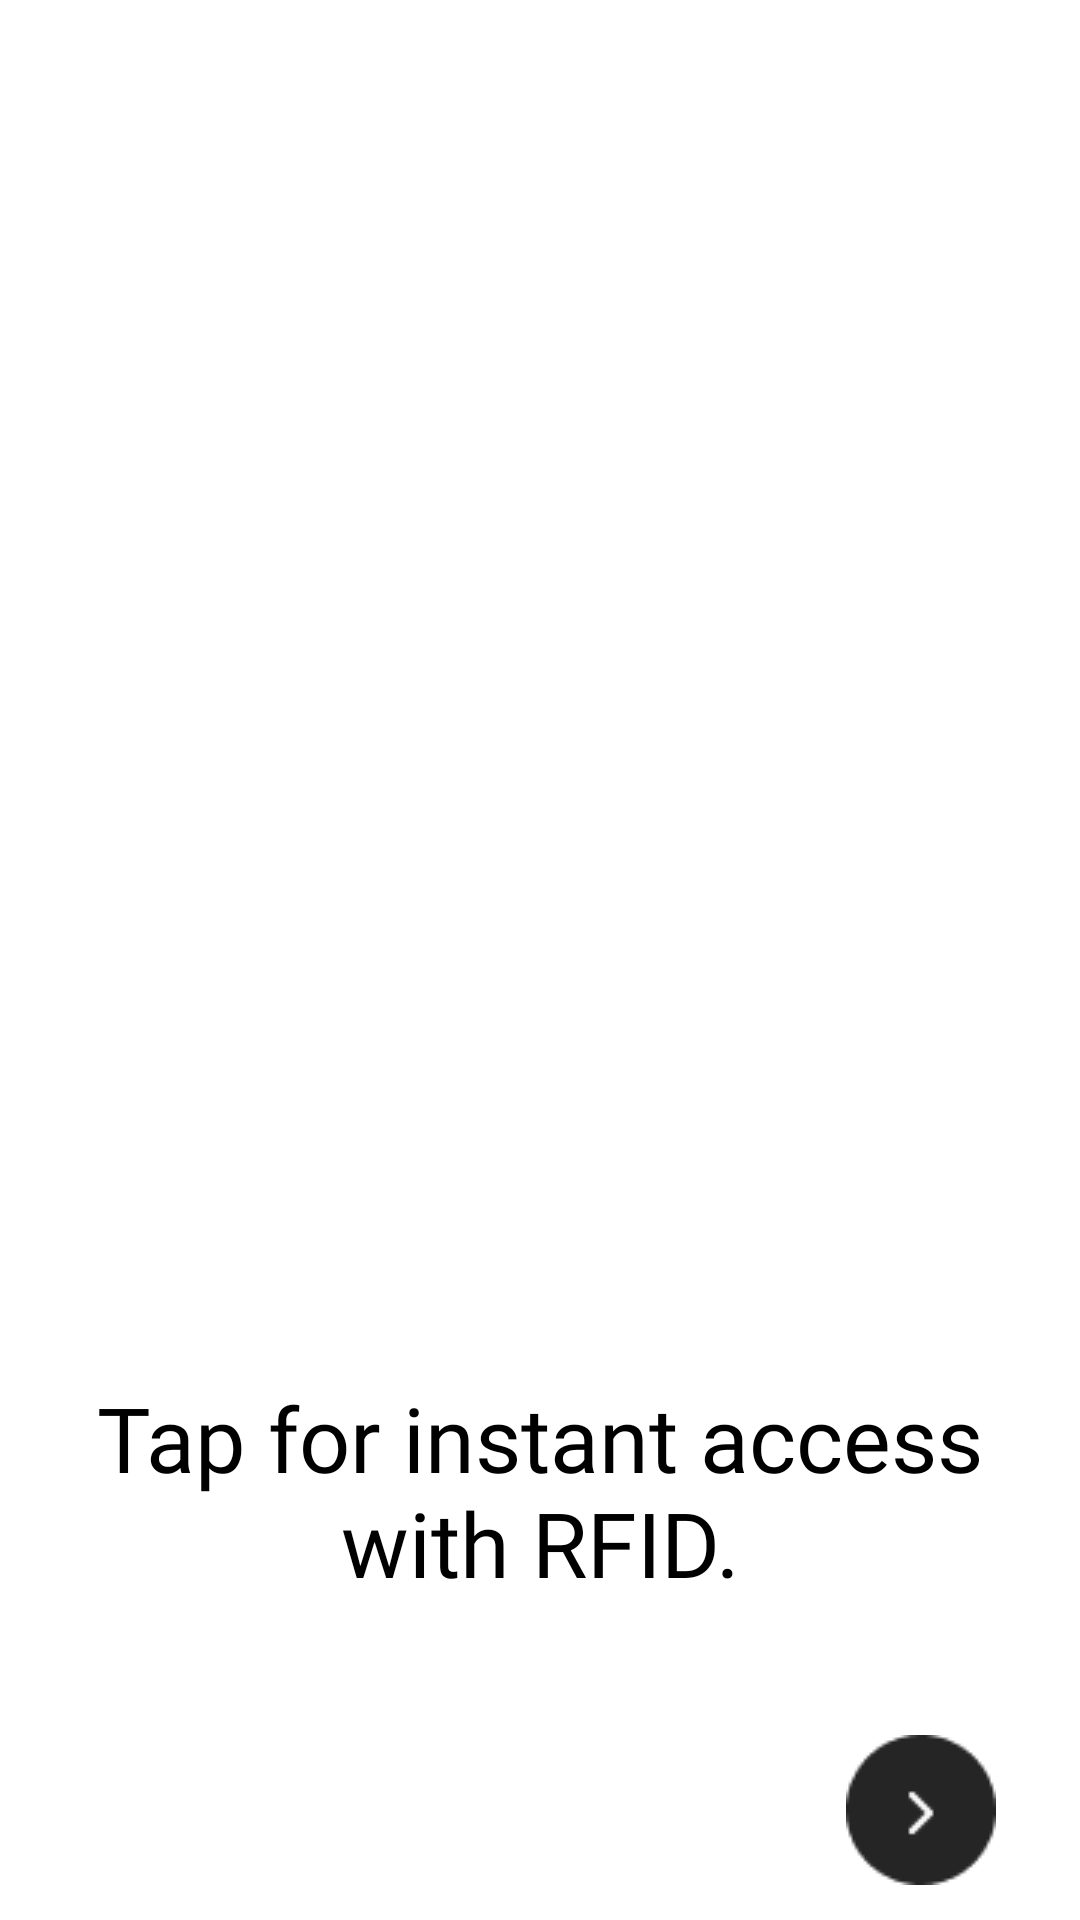

Where to tap for icons on this 1080px x 1920px app screen, as point (x, y):
next: point (921, 1810)
